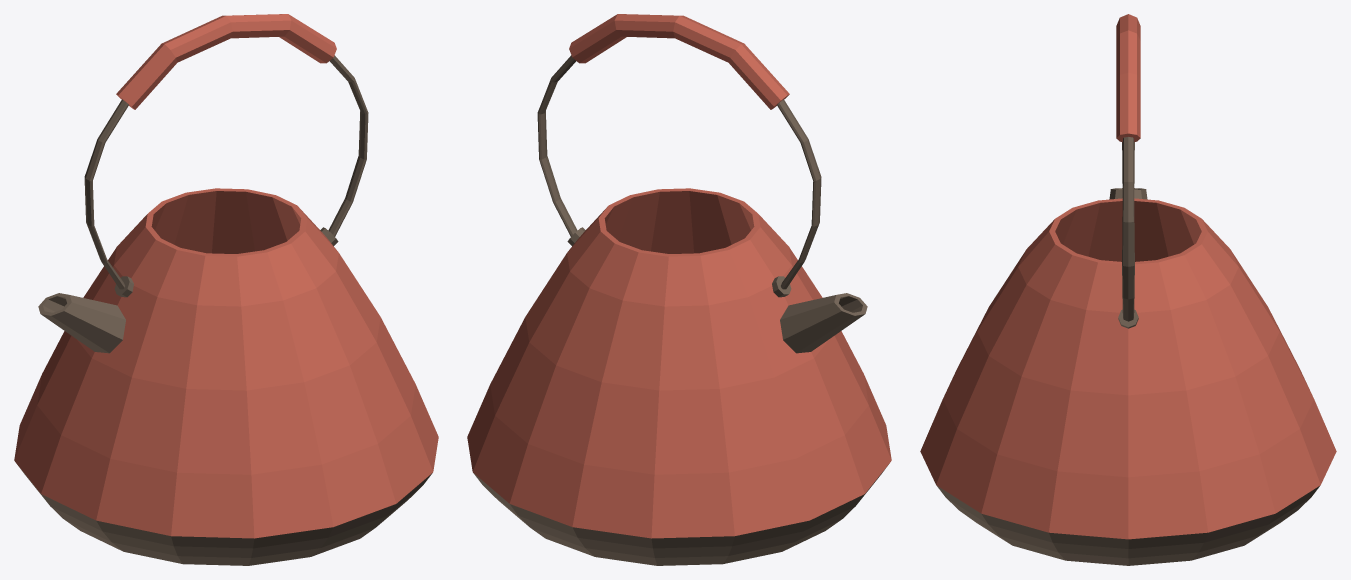
The model's file is Kettle2_C2_01.fbx.
The picture shows the model from 3 angles, left to right: view 1: azimuth 30°, elevation 25°; view 2: azimuth 150°, elevation 25°; view 3: azimuth 270°, elevation 25°; orthographic projection. The views are drawn at different scales.
Visible parts, largest first — view 1: Kettle2_C2_01; view 2: Kettle2_C2_01; view 3: Kettle2_C2_01.
Part boxes in pixels (x1,y1,x2,y2): Kettle2_C2_01: (14,14,438,565); Kettle2_C2_01: (467,14,891,565); Kettle2_C2_01: (920,14,1336,565).
Size of the model in its own units: 35.67 by 44 by 35.61.
